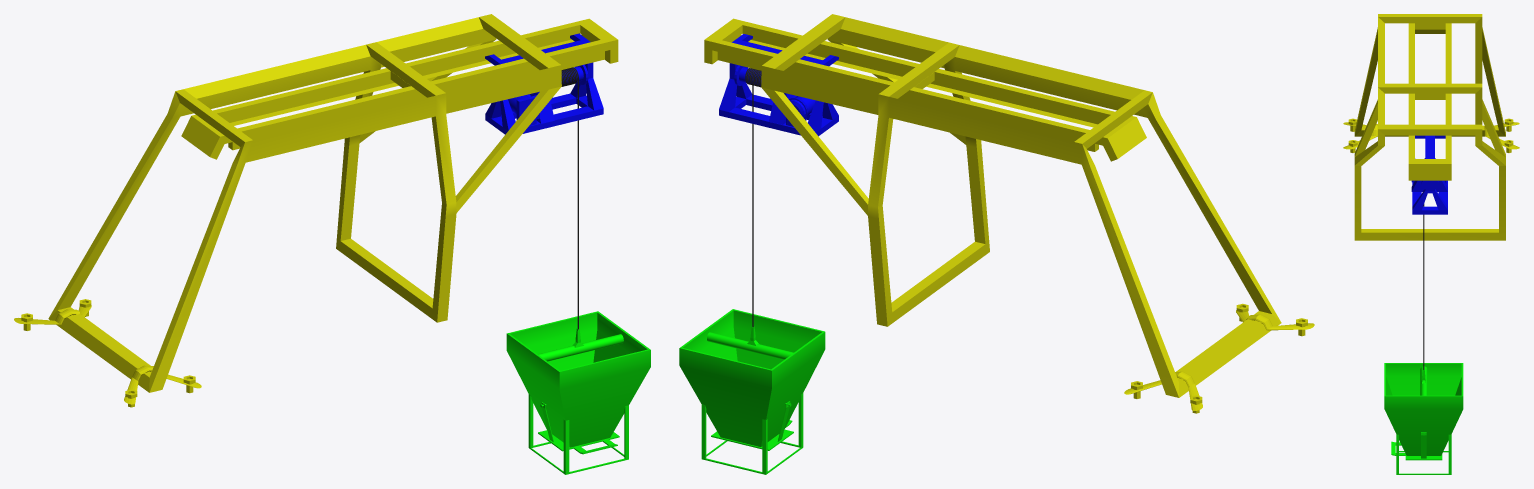
File: Lift_Without Hazard.fbx
The picture shows the model from 3 angles, left to right: view 1: azimuth 30°, elevation 25°; view 2: azimuth 150°, elevation 25°; view 3: azimuth 270°, elevation 25°; orthographic projection. The views are drawn at different scales.
Visible parts, largest first — view 1: Main_Body1, Bucket, Engin, Cable; view 2: Main_Body1, Bucket, Engin, Cable; view 3: Main_Body1, Bucket, Engin, Cable.
Part boxes in pixels (box(x1,y1,x2,y2)): Main_Body1: box(14, 14, 618, 407); Bucket: box(506, 311, 650, 474); Engin: box(485, 33, 603, 134); Cable: box(561, 67, 578, 329); Main_Body1: box(704, 14, 1314, 413); Bucket: box(679, 309, 825, 474); Engin: box(719, 34, 838, 136); Cable: box(745, 68, 761, 327); Main_Body1: box(1343, 14, 1519, 240); Bucket: box(1384, 363, 1463, 474); Engin: box(1411, 135, 1447, 214); Cable: box(1423, 190, 1424, 369).
Bounding box in the file's own units: 13.76 × 10.13 × 5.13.
